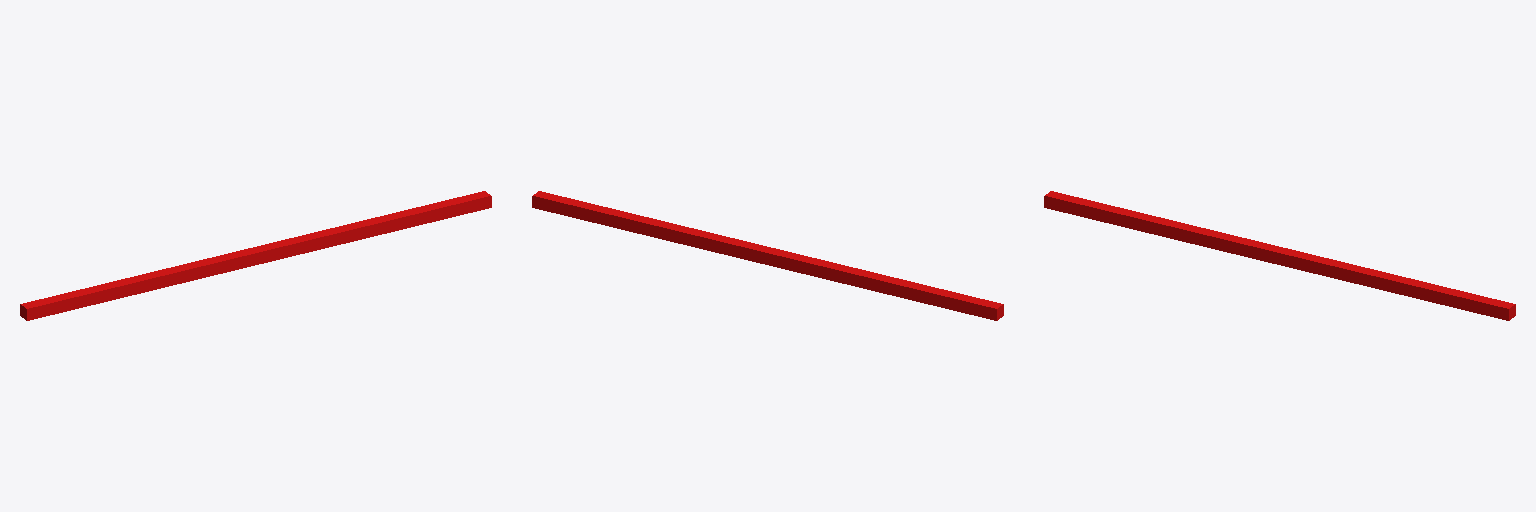
URDF robot description (lbr_iiwa):
<?xml version="1.0" ?>
<robot name="lbr_iiwa">
    <link name="world" />    

    <link name="link1">
    <inertial>
      <origin rpy="0 0 0" xyz="0.5 0 0"/>
      <mass value="3.0"/>
      <inertia ixx="0.136666666667" ixy="0" ixz="0" iyy="0.118666666667" iyz="0" izz="0.03"/>
    </inertial>
    <visual>
      <origin rpy="0 0 0" xyz="0.5 0 0"/>
      <geometry>
        <box size="1 0.15 0.15"/>
      </geometry>
      <material name="red">
        <color rgba=".9 .1 .1 1"/>
      </material>
    </visual>
    <collision>
      <origin rpy="0 0 0" xyz="0.5 0 0"/>
      <geometry>
        <box size="1 0.15 0.15"/>
      </geometry>
      <material name="Grey"/>
    </collision>    
  </link>    

    <link name="link2">
    <inertial>
      <origin rpy="0 0 0" xyz="0.5 0 0"/>
      <mass value="2.0"/>
      <inertia ixx="0.136666666667" ixy="0" ixz="0" iyy="0.118666666667" iyz="0" izz="0.03"/>
    </inertial>
    <visual>
      <origin rpy="0 0 0" xyz="0.5 0 0"/>
      <geometry>
        <box size="1 0.15 0.15"/>
      </geometry>
      <material name="red">
        <color rgba=".9 .1 .1 1"/>
      </material>
    </visual>
    <collision>
      <origin rpy="0 0 0" xyz="0.5 0 0"/>
      <geometry>
        <box size="1 0.15 0.15"/>
      </geometry>
      <material name="Grey"/>
    </collision>    
  </link>

   <link name="link3">
    <inertial>
      <origin rpy="0 0 0" xyz="0.5 0 0"/>
      <mass value="0.2"/>
      <inertia ixx="0.136666666667" ixy="0" ixz="0" iyy="0.118666666667" iyz="0" izz="0.03"/>
    </inertial>
    <visual>
      <origin rpy="0 0 0" xyz="0.5 0 0"/>
      <geometry>
        <box size="1 0.15 0.15"/>
      </geometry>
      <material name="red">
        <color rgba=".9 .1 .1 1"/>
      </material>
    </visual>
    <collision>
      <origin rpy="0 0 0" xyz="0.5 0 0"/>
      <geometry>
        <box size="1 0.15 0.15"/>
      </geometry>
      <material name="Grey"/>
    </collision>    
  </link>

  <link name="link4">
    <inertial>
      <origin rpy="0 0 0" xyz="0.5 0 0"/>
      <mass value="0.2"/>
      <inertia ixx="0.136666666667" ixy="0" ixz="0" iyy="0.118666666667" iyz="0" izz="0.03"/>
    </inertial>
    <visual>
      <origin rpy="0 0 0" xyz="0.5 0 0"/>
      <geometry>
        <box size="1 0.15 0.15"/>
      </geometry>
      <material name="red">
        <color rgba=".9 .1 .1 1"/>
      </material>
    </visual>
    <collision>
      <origin rpy="0 0 0" xyz="0.5 0 0"/>
      <geometry>
        <box size="1 0.15 0.15"/>
      </geometry>
      <material name="Grey"/>
    </collision>    
  </link>

  <link name="link5">
    <inertial>
      <origin rpy="0 0 0" xyz="0.5 0 0"/>
      <mass value="0.1"/>
      <inertia ixx="0.136666666667" ixy="0" ixz="0" iyy="0.118666666667" iyz="0" izz="0.03"/>
    </inertial>
    <visual>
      <origin rpy="0 0 0" xyz="0.5 0 0"/>
      <geometry>
        <box size="1 0.15 0.15"/>
      </geometry>
      <material name="red">
        <color rgba=".9 .1 .1 1"/>
      </material>
    </visual>
    <collision>
      <origin rpy="0 0 0" xyz="0.5 0 0"/>
      <geometry>
        <box size="1 0.15 0.15"/>
      </geometry>
      <material name="Grey"/>
    </collision>    
  </link>

  <link name="link6">
    <inertial>
      <origin rpy="0 0 0" xyz="0.5 0 0"/>
      <mass value="0.1"/>
      <inertia ixx="0.136666666667" ixy="0" ixz="0" iyy="0.118666666667" iyz="0" izz="0.03"/>
    </inertial>
    <visual>
      <origin rpy="0 0 0" xyz="0.5 0 0"/>
      <geometry>
        <box size="1 0.15 0.15"/>
      </geometry>
      <material name="red">
        <color rgba=".9 .1 .1 1"/>
      </material>
    </visual>
    <collision>
      <origin rpy="0 0 0" xyz="0.5 0 0"/>
      <geometry>
        <box size="1 0.15 0.15"/>
      </geometry>
      <material name="Grey"/>
    </collision>    
  </link>

  <link name="end_effector">
    <collision>
      <origin rpy="0 0 0" xyz="0 0 0"/>
      <geometry>
        <box size="0 0 0"/>
      </geometry>
      <material name="Grey"/>
    </collision>
  </link>   

  <joint name="joint1" type="revolute">
    <parent link="world"/>
    <child link="link1"/>
    <origin rpy="0 0 0" xyz="0 0 5"/>
    <axis xyz="0 0 1"/>
    <limit effort="20" lower="-3.14159265358979323846" upper="3.14159265358979323846" velocity="2"/>    
    <dynamics damping="1.0"/>
  </joint>

  <joint name="joint2" type="revolute">
    <parent link="link1"/>
    <child link="link2"/>
    <origin rpy="-1.57079632679489661923 0 0" xyz="1 0 0"/>
    <axis xyz="0 0 1"/>
    <limit effort="15" lower="-3.14159265358979323846" upper="3.14159265358979323846" velocity="2"/>    
    <dynamics damping="1.0"/>
  </joint>

  <joint name="joint3" type="revolute">
    <parent link="link2"/>
    <child link="link3"/>
    <origin rpy="0 0 0" xyz="1 0 0"/>
    <axis xyz="0 0 1"/>
    <limit effort="15" lower="-3.14159265358979323846" upper="3.14159265358979323846" velocity="2"/>    
    <dynamics damping="2.0"/>
  </joint>

  <joint name="joint4" type="revolute">
    <parent link="link3"/>
    <child link="link4"/>
    <origin rpy="1.57079632679489661923 0 0" xyz="1 0 0"/>
    <axis xyz="0 0 1"/>
    <limit effort="10" lower="-3.14159265358979323846" upper="3.14159265358979323846" velocity="2"/>    
    <dynamics damping="2.0"/>
  </joint>

  <joint name="joint5" type="revolute">
    <parent link="link4"/>
    <child link="link5"/>
    <origin rpy="0 0 0" xyz="1 0 0"/>
    <axis xyz="0 0 1"/>
    <limit effort="10" lower="-3.14159265358979323846" upper="3.14159265358979323846" velocity="2"/>    
    <dynamics damping="2.0"/>
  </joint>

  <joint name="joint6" type="revolute">
    <parent link="link5"/>
    <child link="link6"/>
    <origin rpy="0 0 0" xyz="1 0 0"/>
    <axis xyz="0 0 1"/>
    <limit effort="10" lower="-3.14159265358979323846" upper="3.14159265358979323846" velocity="2"/>    
    <dynamics damping="2.0"/>
  </joint>

  <joint name="joint7" type="fixed">    
    <parent link="link6"/>
    <child link="end_effector"/>
    <origin rpy="1.57079632679489661923 0 0" xyz="1 0 0"/>
    <axis xyz="0 0 1"/>
    <limit effort="40" lower="-3.14159265358979323846" upper="3.14159265358979323846" velocity="2"/>    
    <dynamics damping="1.0"/>
  </joint>
  
  

    
</robot>

--- What the picture shows (computed from the rendered views, not written in the file) ---
Views: 3 orthographic renders of the robot side by side, from view 1: azimuth 30°, elevation 25°; view 2: azimuth 150°, elevation 25°; view 3: azimuth 330°, elevation 25°.
Robot: lbr_iiwa — 8 links, 7 joints (6 revolute, 1 fixed); root link world; default pose: all joints at 0.
Visible links, largest first — view 1: link1, link4, link6, link5, link2, link3; view 2: link1, link4, link6, link5, link2, link3; view 3: link6, link3, link1, link2, link5, link4.
Boxes of the visible links, x1,y1,x2,y2 form: link1: (20,285,104,320); link4: (253,229,336,263); link6: (408,191,491,226); link5: (330,210,413,244); link2: (98,267,181,301); link3: (175,248,258,282); link1: (919,285,1003,320); link4: (687,229,770,263); link6: (532,191,615,226); link5: (610,210,693,244); link2: (842,267,925,301); link3: (765,248,848,282); link6: (1431,285,1515,320); link3: (1199,229,1282,263); link1: (1044,191,1127,226); link2: (1122,210,1205,244); link5: (1354,267,1437,301); link4: (1277,248,1360,282).
Size in the robot's own frame: 6 by 0.15 by 0.15 metres.
Geometry: primitives only (box / cylinder / sphere), no mesh files.
